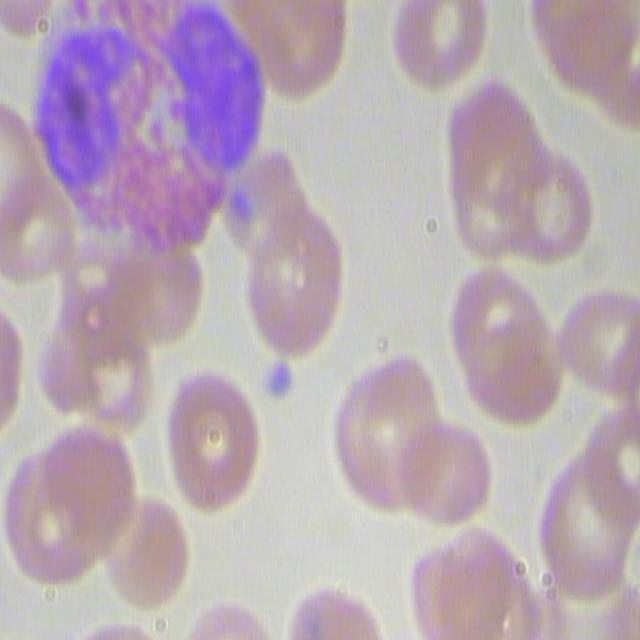Platelets: (260, 360, 297, 403)
RBC: (327, 356, 452, 520), (236, 198, 361, 362), (163, 369, 267, 514), (370, 1, 499, 95), (470, 314, 566, 434), (505, 148, 601, 268), (400, 414, 496, 534), (101, 486, 197, 606)
WBC: (27, 1, 269, 256)
